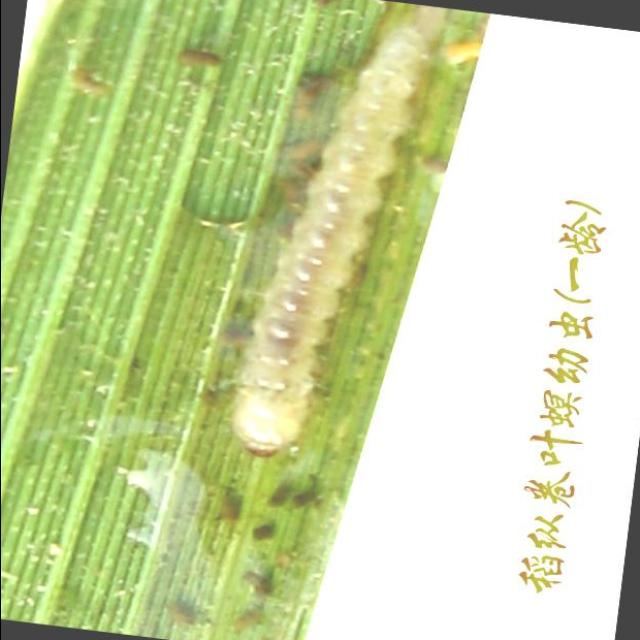leaf folder: (231, 7, 447, 457)
